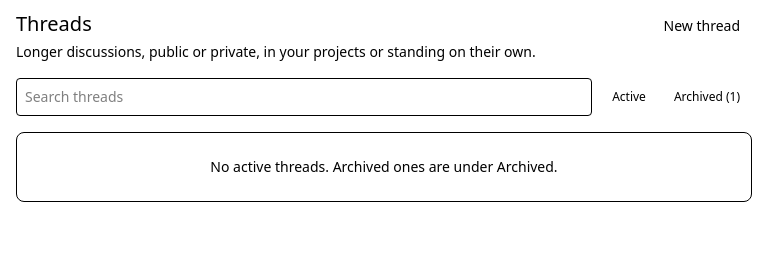
Test: ThreadsView public thread › an archived thread is read-only and says how many later replies it hides
This screenshot has width=769, height=270.
Click the button "Archived (1)" at (707, 97), box x1=662 y1=79 x2=752 y2=115
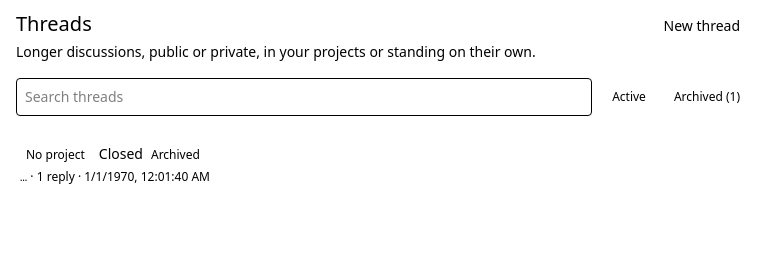
Click the text "Closed" at (121, 154), box x1=99 y1=144 x2=143 y2=164
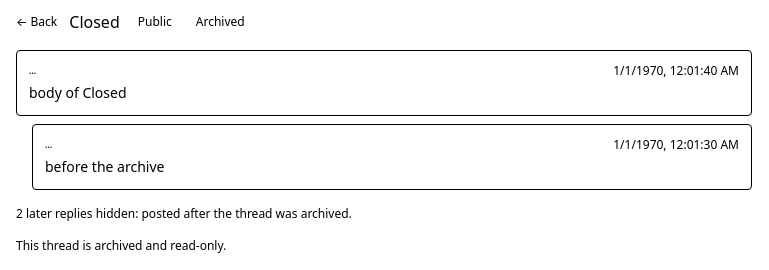
Expected: the text "before the archive" is shown, x1=45 y1=157 x2=164 y2=176
Expected: the text "2 later replies hidden" is shown, x1=16 y1=205 x2=352 y2=222
Expected: the button "reply" is gone
